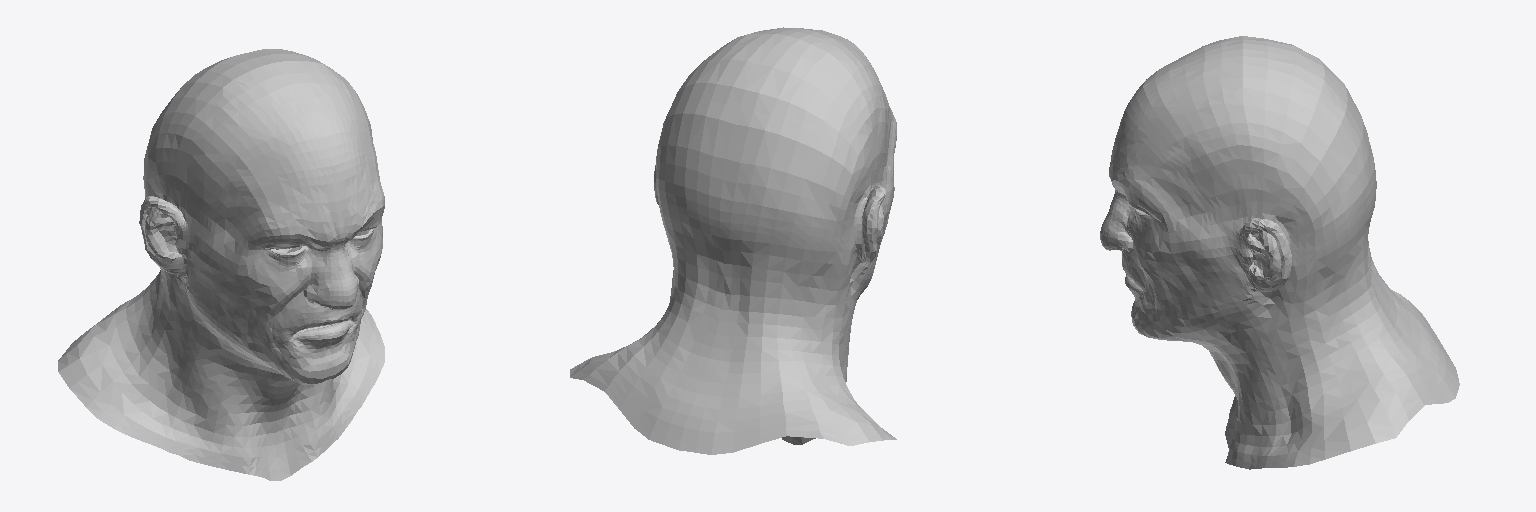
Rendered from Victor_disgust.obj.
3 views of the same model, side by side, from view 1: azimuth 30°, elevation 25°; view 2: azimuth 150°, elevation 25°; view 3: azimuth 270°, elevation 25° (orthographic).
Visible parts, largest first — view 1: Victor_headGEO Victor_Mesh def:geo FTI_Victor; view 2: Victor_headGEO Victor_Mesh def:geo FTI_Victor; view 3: Victor_headGEO Victor_Mesh def:geo FTI_Victor.
Part boxes in pixels (x1,y1,x2,y2): Victor_headGEO Victor_Mesh def:geo FTI_Victor: (58, 49, 384, 480); Victor_headGEO Victor_Mesh def:geo FTI_Victor: (570, 27, 896, 454); Victor_headGEO Victor_Mesh def:geo FTI_Victor: (1100, 36, 1459, 469).
Size of the model in its own units: 3.54 by 4.64 by 3.65.